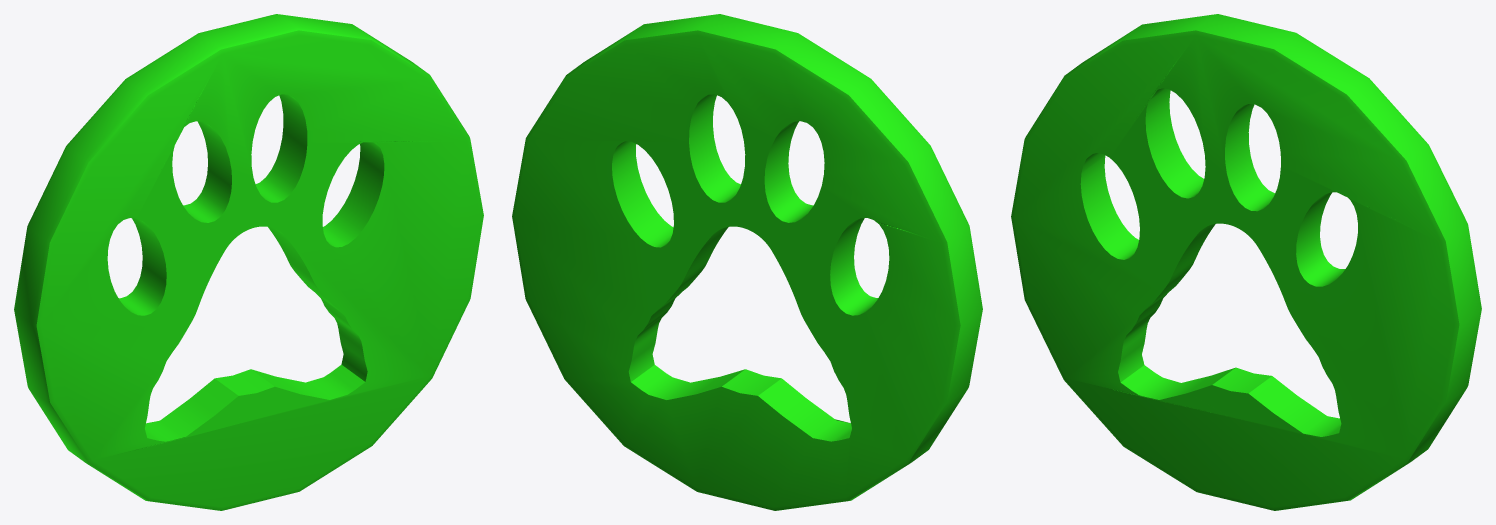
File: PowerUp.FBX
The picture shows the model from 3 angles, left to right: view 1: azimuth 30°, elevation 25°; view 2: azimuth 150°, elevation 25°; view 3: azimuth 330°, elevation 25°; orthographic projection.
Parts seen in each view (by area): view 1: WeaponItem; view 2: WeaponItem; view 3: WeaponItem.
Part boxes in pixels (x1,y1,x2,y2): WeaponItem: (14,14,483,510); WeaponItem: (512,14,982,510); WeaponItem: (1011,14,1481,510).
Bounding box in the file's own units: 56.9 × 56.05 × 5.34.
